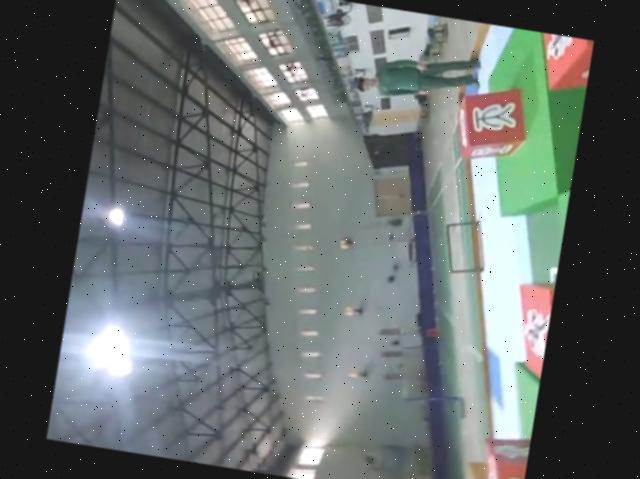R1: (500, 276, 556, 390), (526, 31, 594, 96)
R2 Fake: (450, 80, 535, 168), (469, 428, 531, 479)
